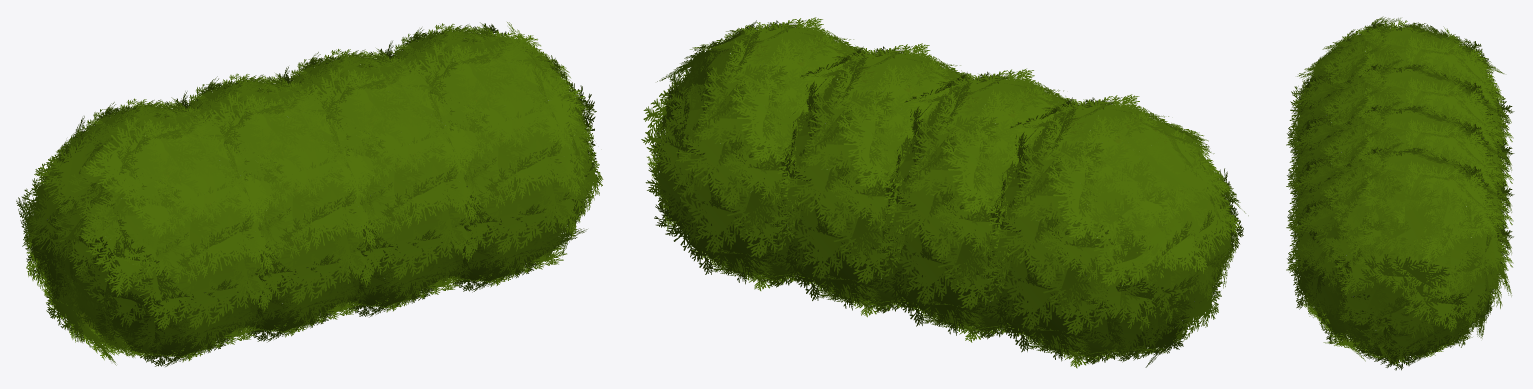
File: small_stylised_bush.glb
The picture shows the model from 3 angles, left to right: view 1: azimuth 30°, elevation 25°; view 2: azimuth 150°, elevation 25°; view 3: azimuth 270°, elevation 25°; orthographic projection. The views are drawn at different scales.
Visible parts, largest first — view 1: BushSmall_phong9_0.003; view 2: BushSmall_phong9_0.003; view 3: BushSmall_phong9_0.003.
Part boxes in pixels (left/top/right/bottom): BushSmall_phong9_0.003: left=16, top=22, right=603, bottom=366; BushSmall_phong9_0.003: left=641, top=17, right=1248, bottom=368; BushSmall_phong9_0.003: left=1286, top=16, right=1514, bottom=370.
Bounding box in the file's own units: 26.64 × 11.45 × 11.85.
8 materials, 4 textured.
